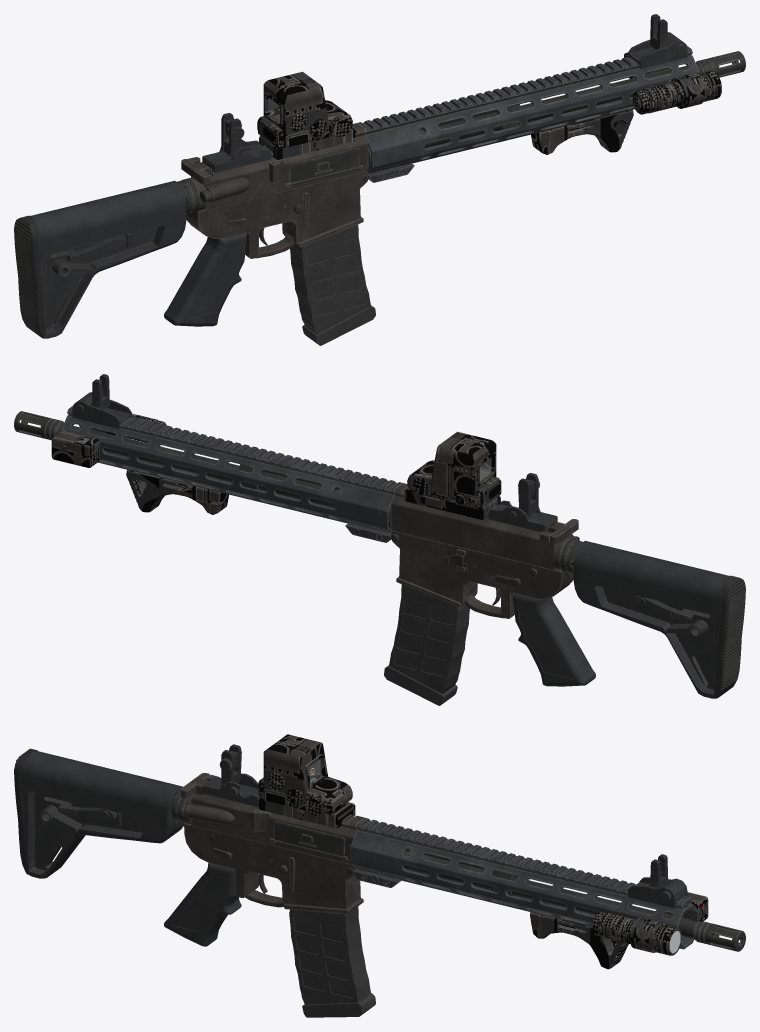
Rendered from weapon_ar15.fbx.
The picture shows the model from 3 angles, top to bottom: view 1: azimuth 30°, elevation 25°; view 2: azimuth 150°, elevation 25°; view 3: azimuth 330°, elevation 25°; orthographic projection.
Parts seen in each view (by area): view 1: ar15_handguard, ar15_stock, ar15_lower_receiver, ar15_magazine, ar15_att_holo_body, ar15_pistol_grip, ar15_upper_receiver, ar15_buttpad, ar15_att_grip, ar15_att_light_body, ar15_dust_cover, ar15_barrel (+8 smaller); view 2: ar15_handguard, ar15_stock, ar15_lower_receiver, ar15_magazine, ar15_att_holo_body, ar15_upper_receiver, ar15_pistol_grip, ar15_buttpad, ar15_att_grip, ar15_barrel, ar15_att_laser_body, ar15_front_sight_base (+6 smaller); view 3: ar15_handguard, ar15_stock, ar15_lower_receiver, ar15_magazine, ar15_att_holo_body, ar15_upper_receiver, ar15_pistol_grip, ar15_att_grip, ar15_barrel, ar15_att_light_body, ar15_dust_cover, ar15_rear_sight_base (+7 smaller).
Boxes of the visible parts, box(x1,y1,x2,y2) form: ar15_handguard: box(358, 45, 699, 182); ar15_stock: box(31, 180, 186, 338); ar15_lower_receiver: box(186, 171, 368, 258); ar15_magazine: box(290, 224, 375, 345); ar15_att_holo_body: box(257, 71, 355, 159); ar15_pistol_grip: box(164, 233, 247, 326); ar15_upper_receiver: box(191, 123, 368, 209); ar15_buttpad: box(14, 215, 45, 338); ar15_att_grip: box(531, 109, 633, 154); ar15_att_light_body: box(632, 70, 721, 114); ar15_dust_cover: box(285, 147, 363, 186); ar15_barrel: box(420, 63, 702, 148); ar15_handguard: box(61, 405, 401, 542); ar15_stock: box(573, 540, 728, 698); ar15_lower_receiver: box(391, 531, 573, 618); ar15_magazine: box(384, 584, 469, 705); ar15_att_holo_body: box(404, 431, 501, 519); ar15_upper_receiver: box(391, 483, 572, 569); ar15_pistol_grip: box(512, 593, 595, 686); ar15_buttpad: box(714, 575, 745, 698); ar15_att_grip: box(126, 469, 228, 514); ar15_barrel: box(57, 423, 339, 508); ar15_att_laser_body: box(51, 430, 100, 467); ar15_front_sight_base: box(72, 392, 131, 428); ar15_handguard: box(350, 817, 699, 949); ar15_stock: box(20, 750, 182, 878); ar15_lower_receiver: box(183, 795, 363, 913); ar15_magazine: box(289, 906, 375, 1017); ar15_att_holo_body: box(258, 734, 355, 828); ar15_upper_receiver: box(186, 793, 364, 864); ar15_pistol_grip: box(164, 862, 241, 946); ar15_att_grip: box(530, 912, 628, 969); ar15_barrel: box(404, 851, 697, 938); ar15_att_light_body: box(592, 911, 681, 955); ar15_dust_cover: box(269, 820, 347, 859); ar15_rear_sight_base: box(202, 773, 259, 806).
Bounding box in the file's own units: 0.8382 × 0.2943 × 0.1053.
7 materials, 2 textured.
